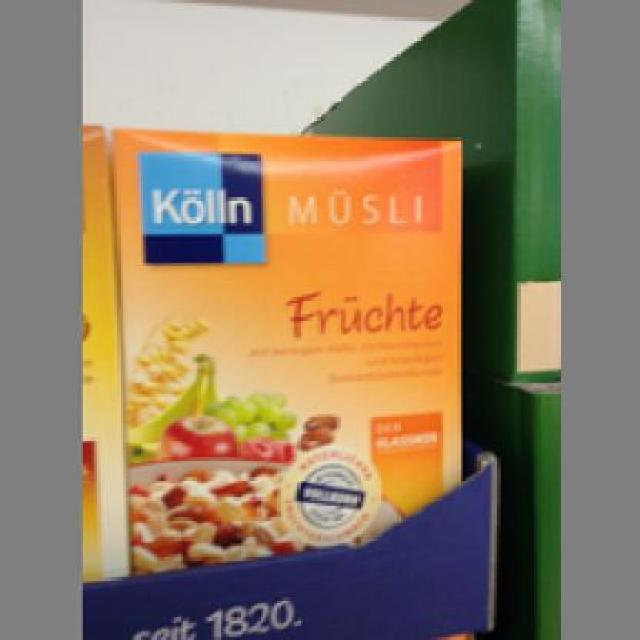Cereal: (106, 122, 460, 575)
